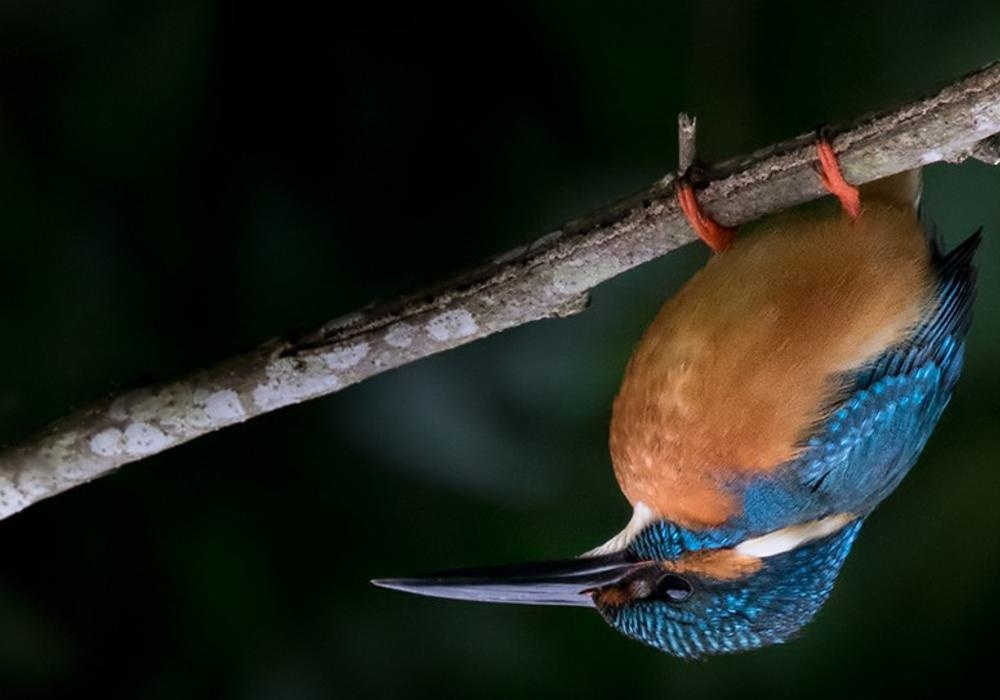kingfisher: (366, 137, 985, 657)
